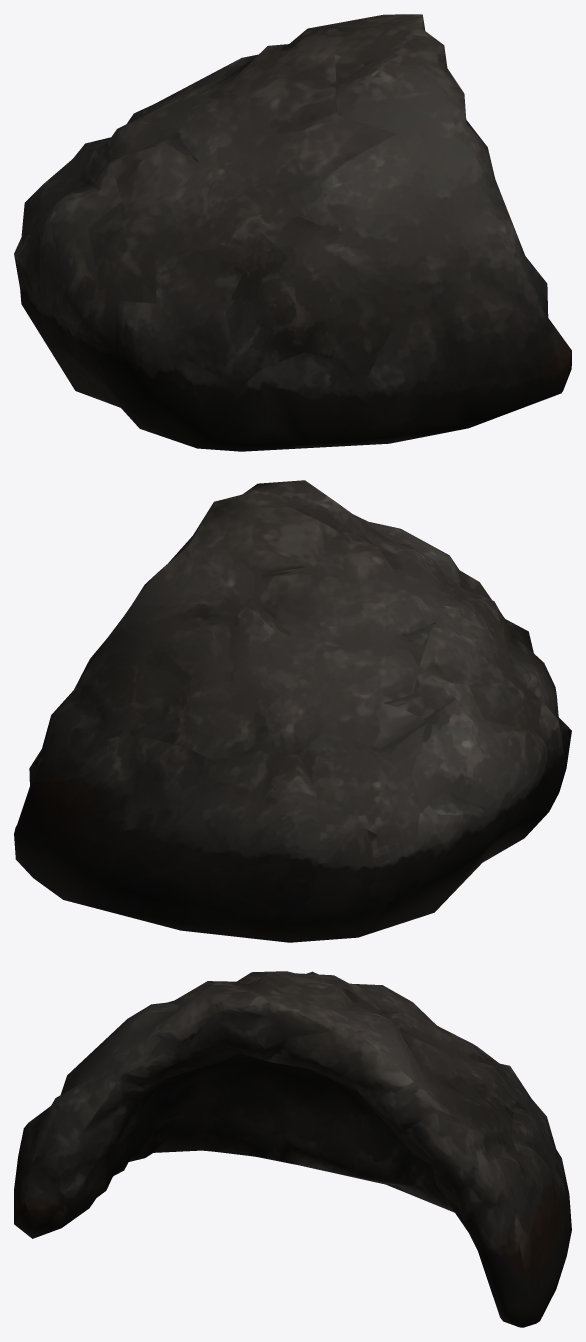
The model's file is platform2sheltercollider.fbx.
3 views of the same model, one above another, from view 1: azimuth 30°, elevation 25°; view 2: azimuth 150°, elevation 25°; view 3: azimuth 270°, elevation 25° (orthographic). The views are drawn at different scales.
Parts seen in each view (by area): view 1: platform2sheltercollider; view 2: platform2sheltercollider; view 3: platform2sheltercollider.
Boxes of the visible parts, <box> form: platform2sheltercollider: <box>14,14,571,451</box>; platform2sheltercollider: <box>14,480,571,942</box>; platform2sheltercollider: <box>14,971,571,1327</box>.
Size of the model in its own units: 1956 by 1480 by 2430.
